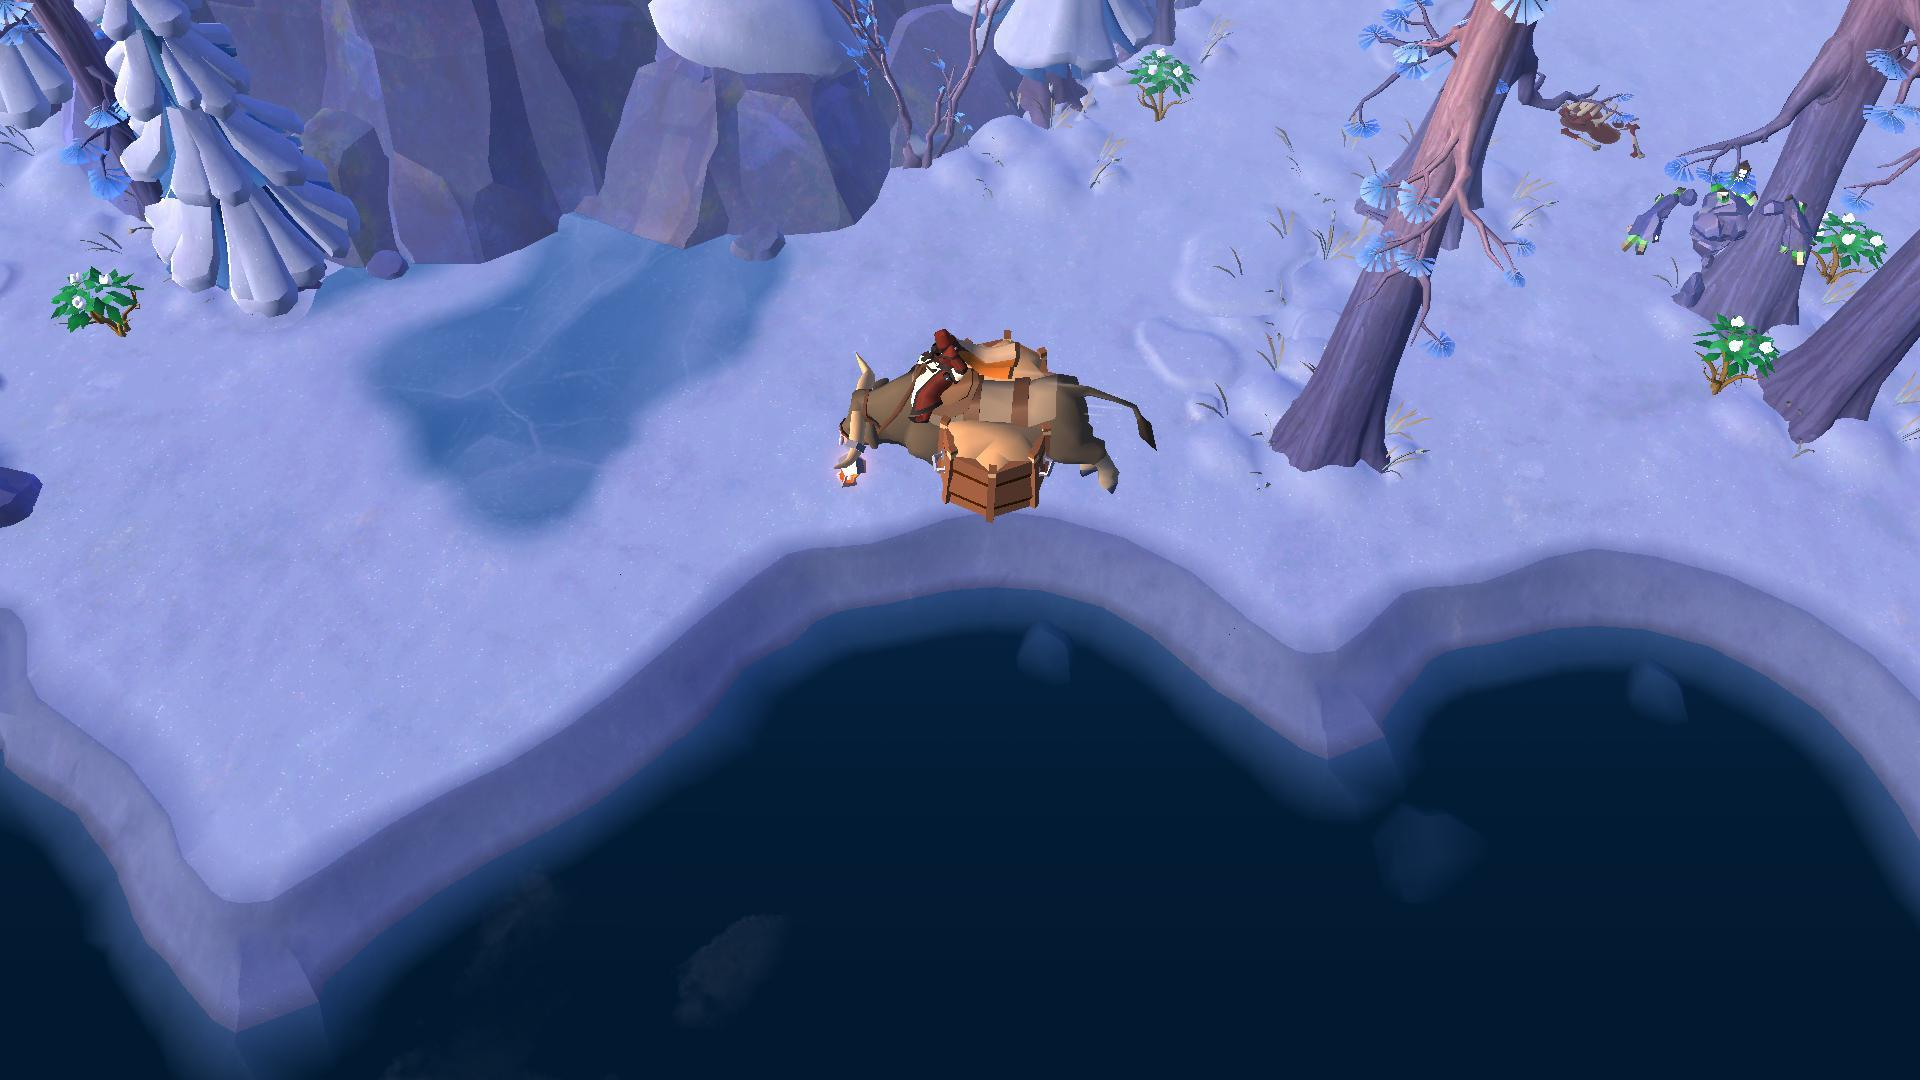fiber_t3: (1684, 314, 1778, 396), (51, 264, 144, 345), (1812, 214, 1900, 281), (1121, 46, 1207, 109)
